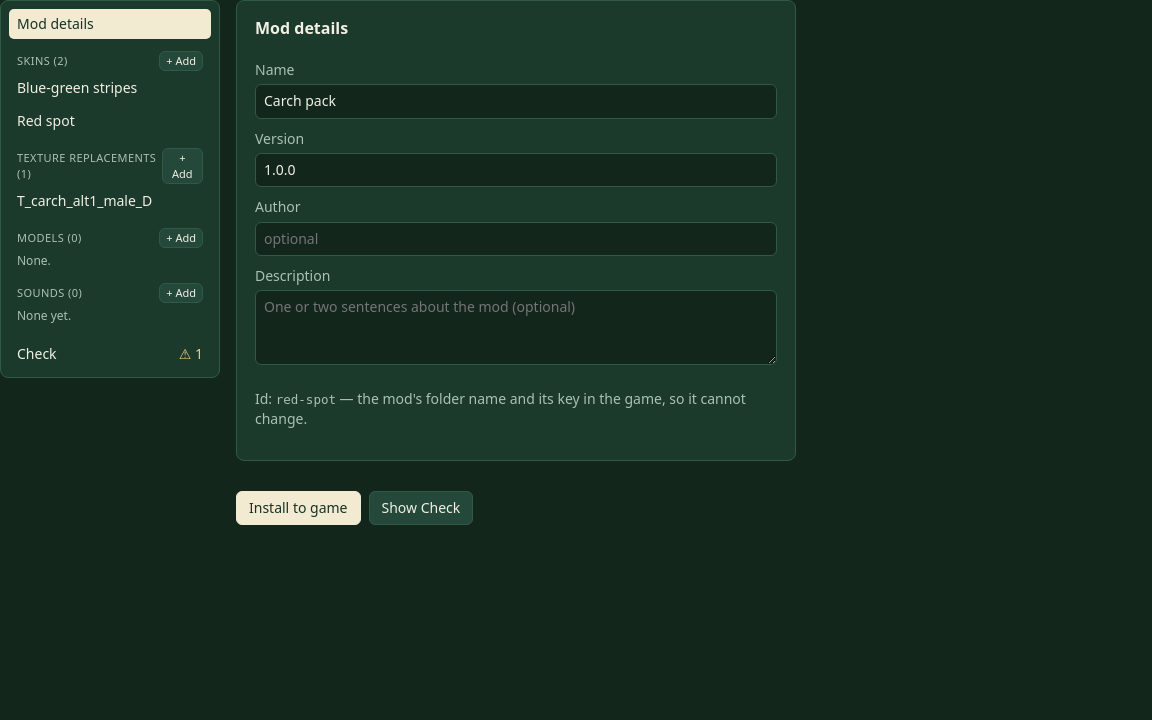
Test: ModEditor › a sound added from + Add is reloaded and opened
Click the button with aria-label "Add a sound": [181, 293] box [159,283,203,303]
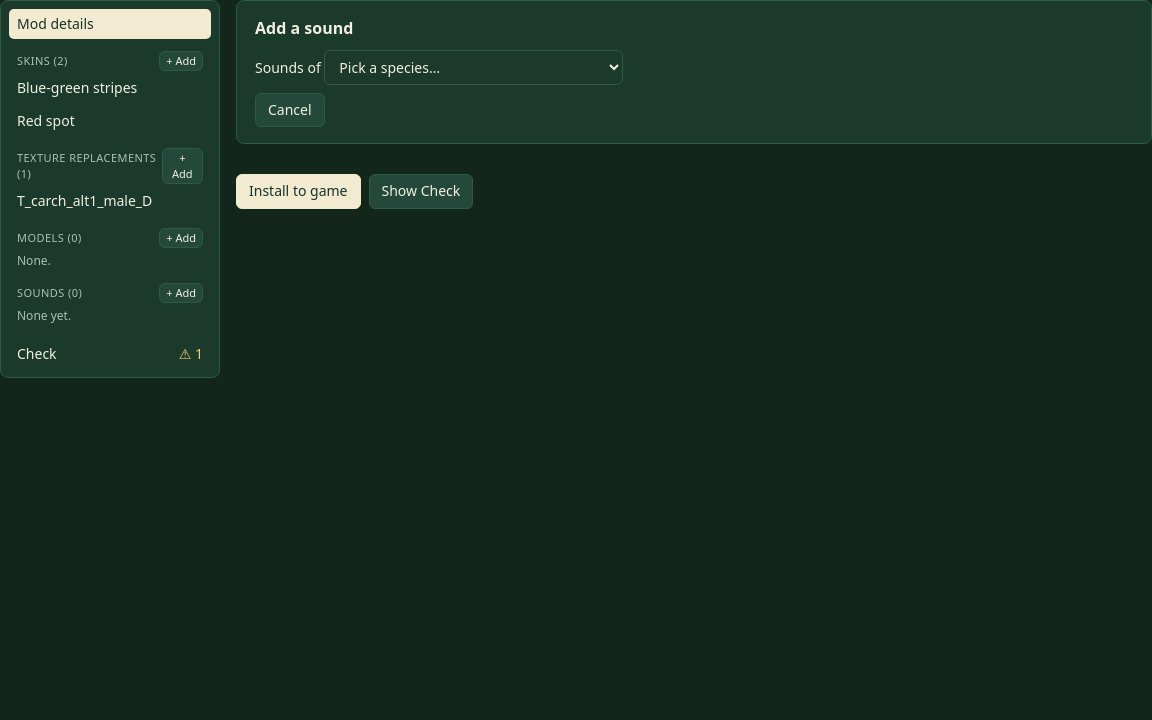
Select "Carcharodontosaurus" in the dropdown labelled "Sounds of": [474, 68] box [324,50,623,85]
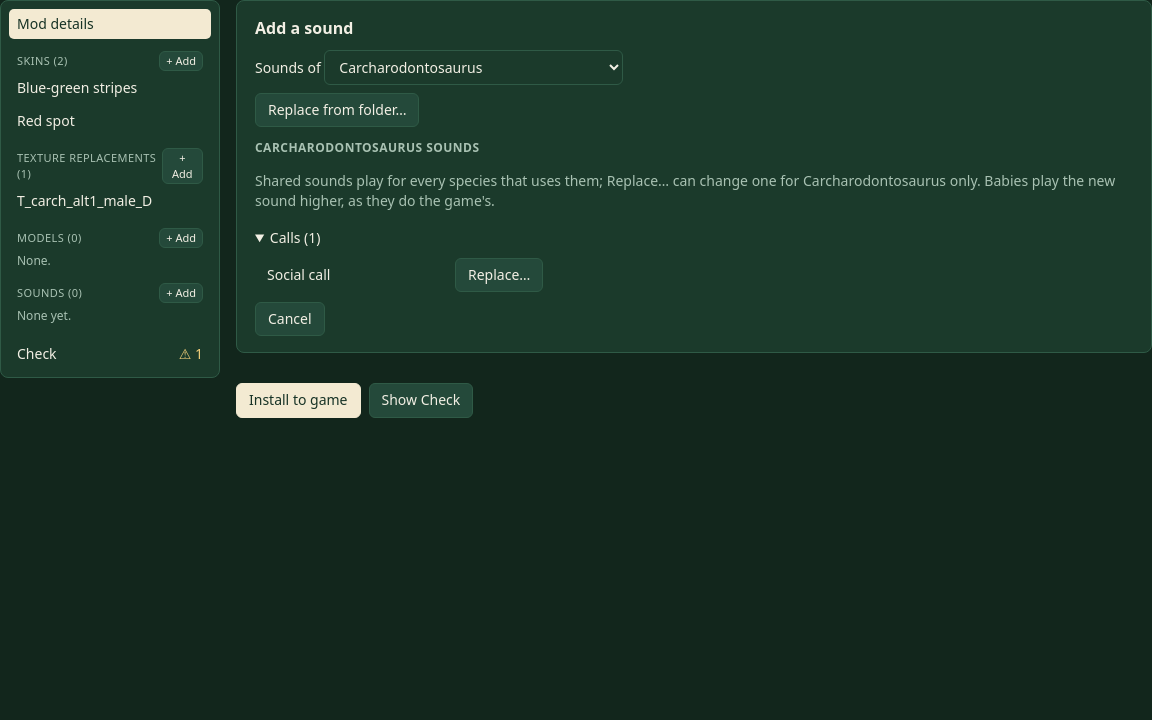
Click the button with aria-label "Replace Social call": [499, 275] box [455,258,543,292]
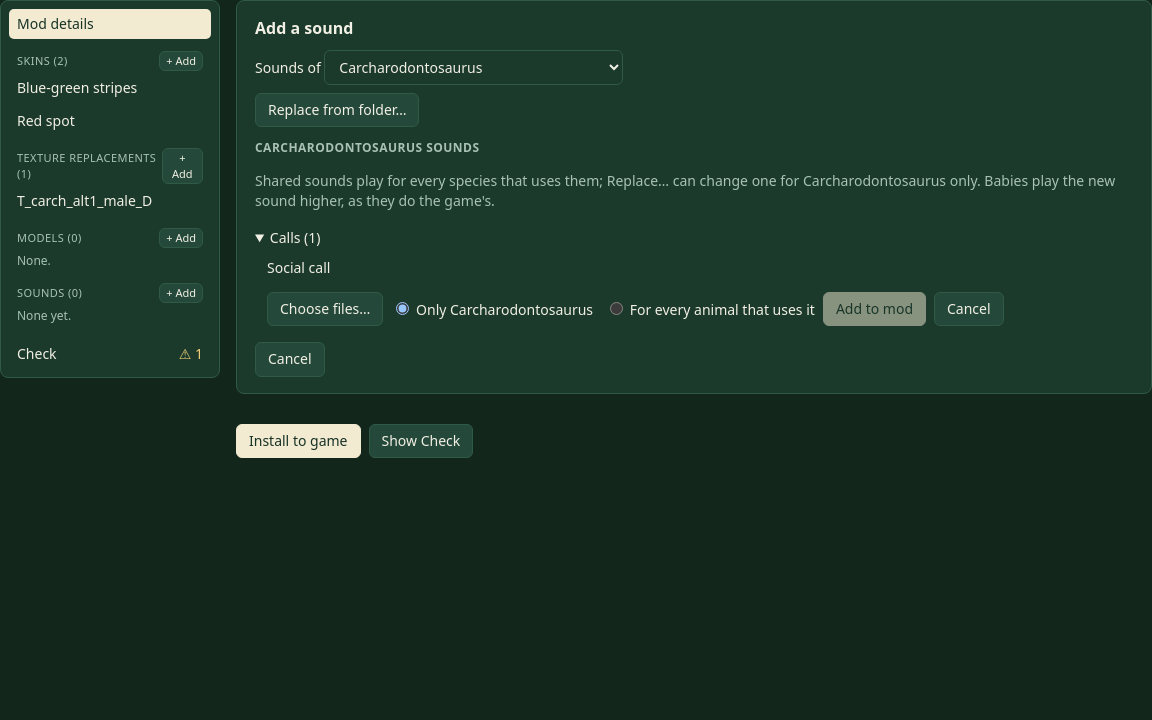
Click the button "Choose files…": [325, 309] box [267,292,383,326]
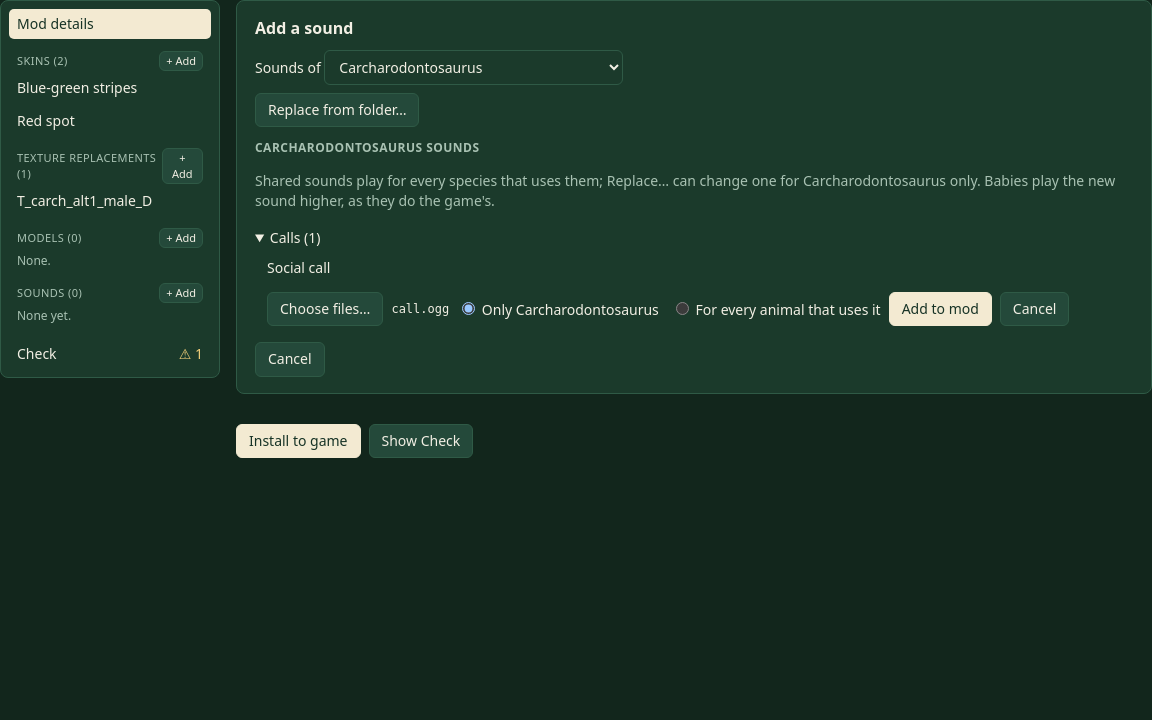
Click the button "Add to mod": [940, 309] box [889,292,992,326]
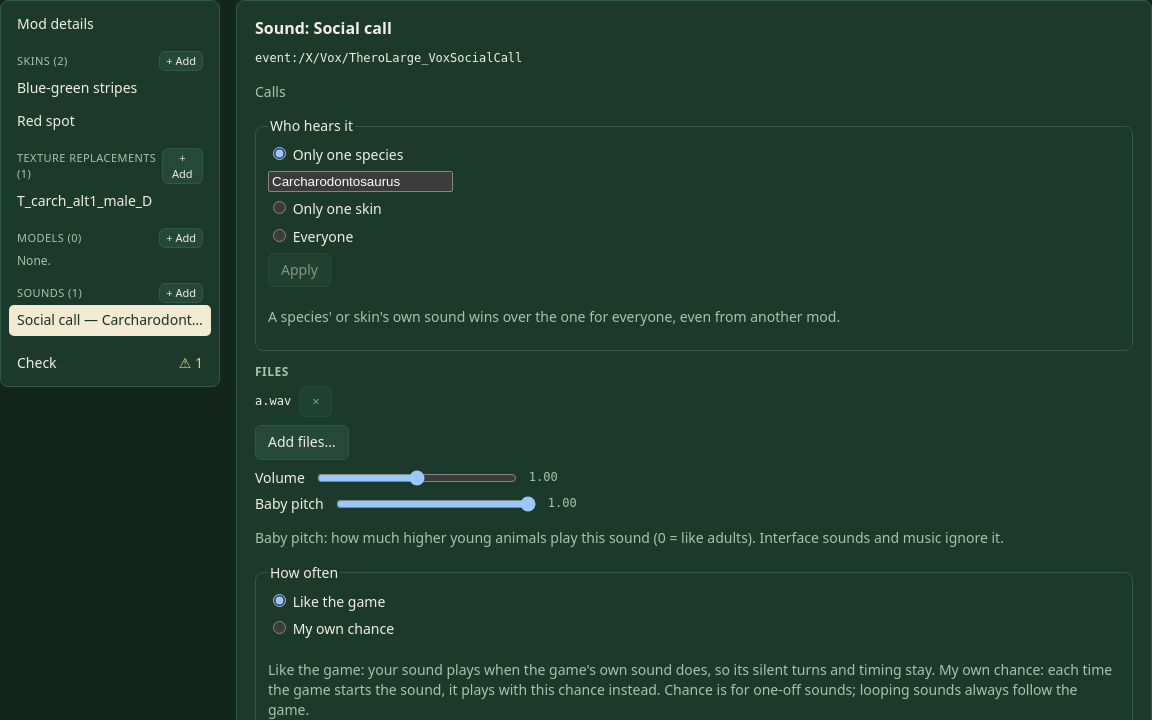
expect the heading "Sound: Social call" is shown: met, box [255,17,392,39]
